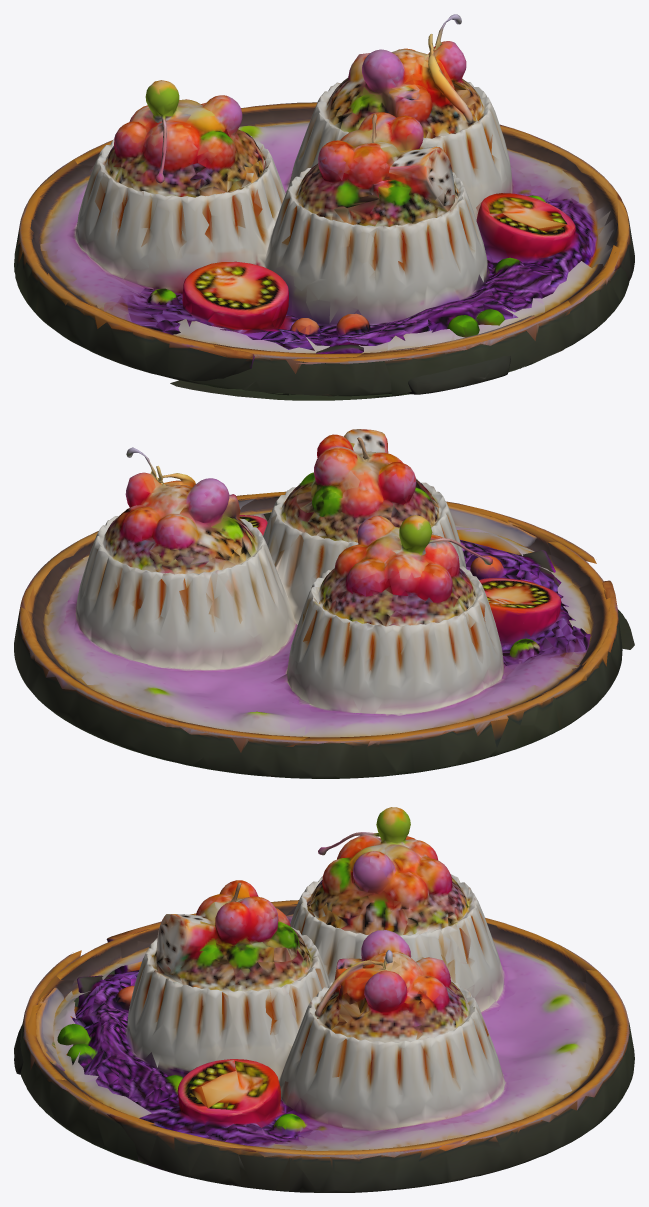
Rendered from c花园豆腐.fbx.
The picture shows the model from 3 angles, top to bottom: view 1: azimuth 30°, elevation 25°; view 2: azimuth 150°, elevation 25°; view 3: azimuth 270°, elevation 25°; orthographic projection. The views are drawn at different scales.
Parts seen in each view (by area): view 1: material_2; view 2: material_2; view 3: material_2.
Boxes of the visible parts, x1,y1,x2,y2 form: material_2: [14, 14, 634, 400]; material_2: [14, 429, 634, 778]; material_2: [14, 807, 634, 1192].
Bounding box in the file's own units: 113 × 38.49 × 113.
1 material, 1 textured.
